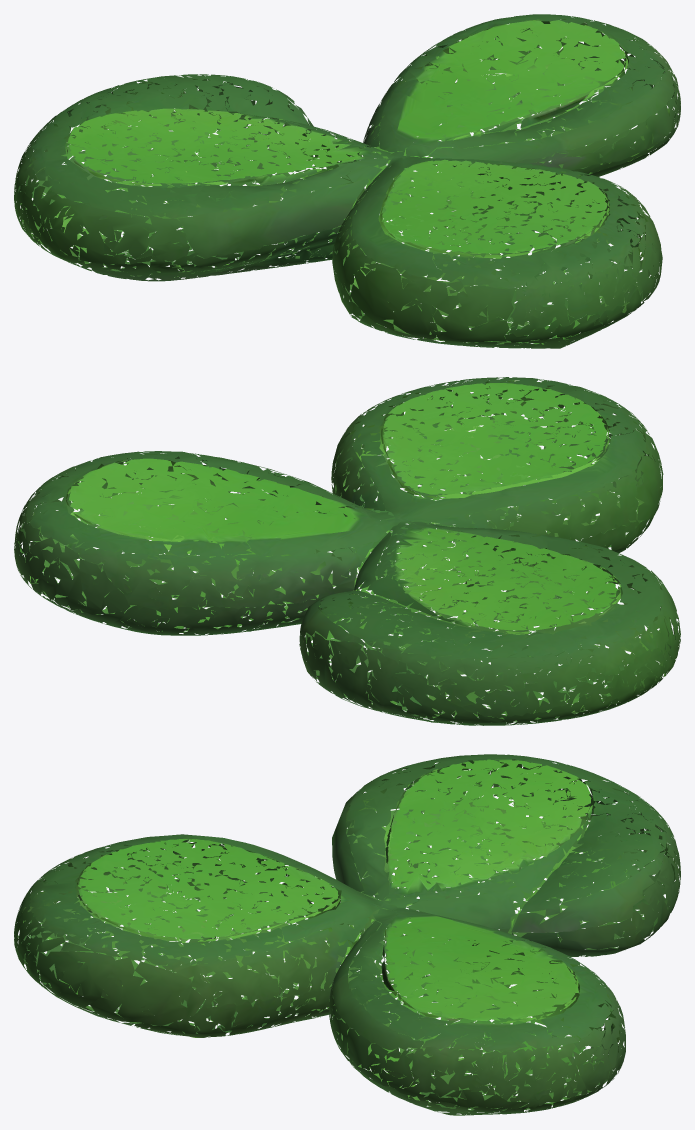
File: clover.glb
3 renders of one model, top to bottom at view 1: azimuth 30°, elevation 25°; view 2: azimuth 150°, elevation 25°; view 3: azimuth 270°, elevation 25°, orthographic.
Bounding box in the file's own units: 0.1503 × 0.0266 × 0.137.
Materials: 1 (1 with a texture image).
